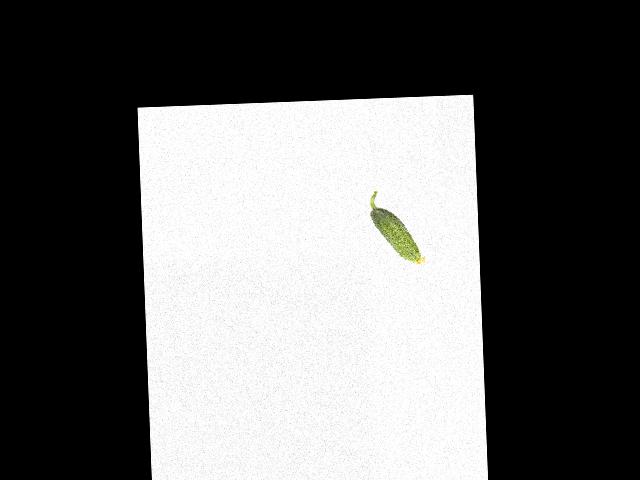cucumber: (369, 190, 426, 266)
